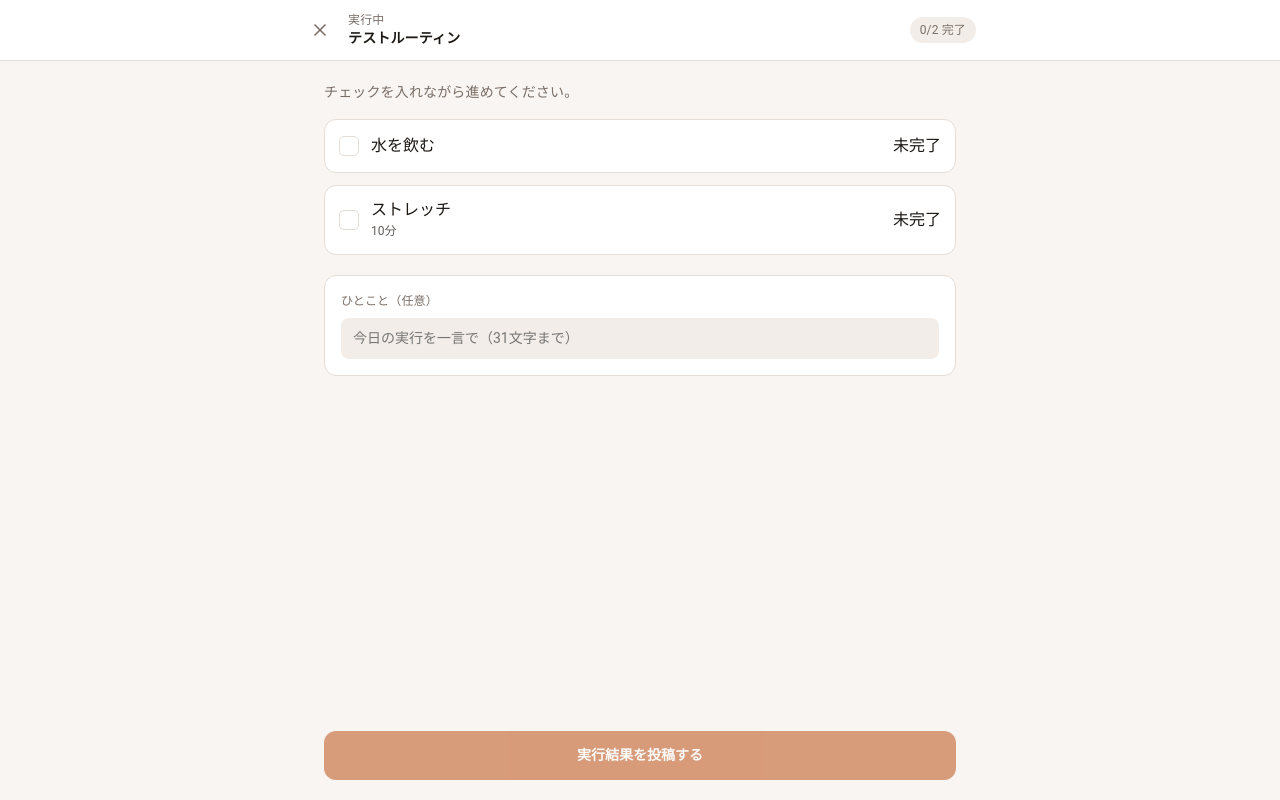
Test: RoutineExecutionPage › 実施済みActionが0件の間は投稿できず、1件選択すると投稿できる
The image size is (1280, 800).
expect the button "実行結果を投稿する" is disabled: met, box [324,731,956,780]
Click the button "水を飲む 未完了": (403, 146) [324,119,956,173]
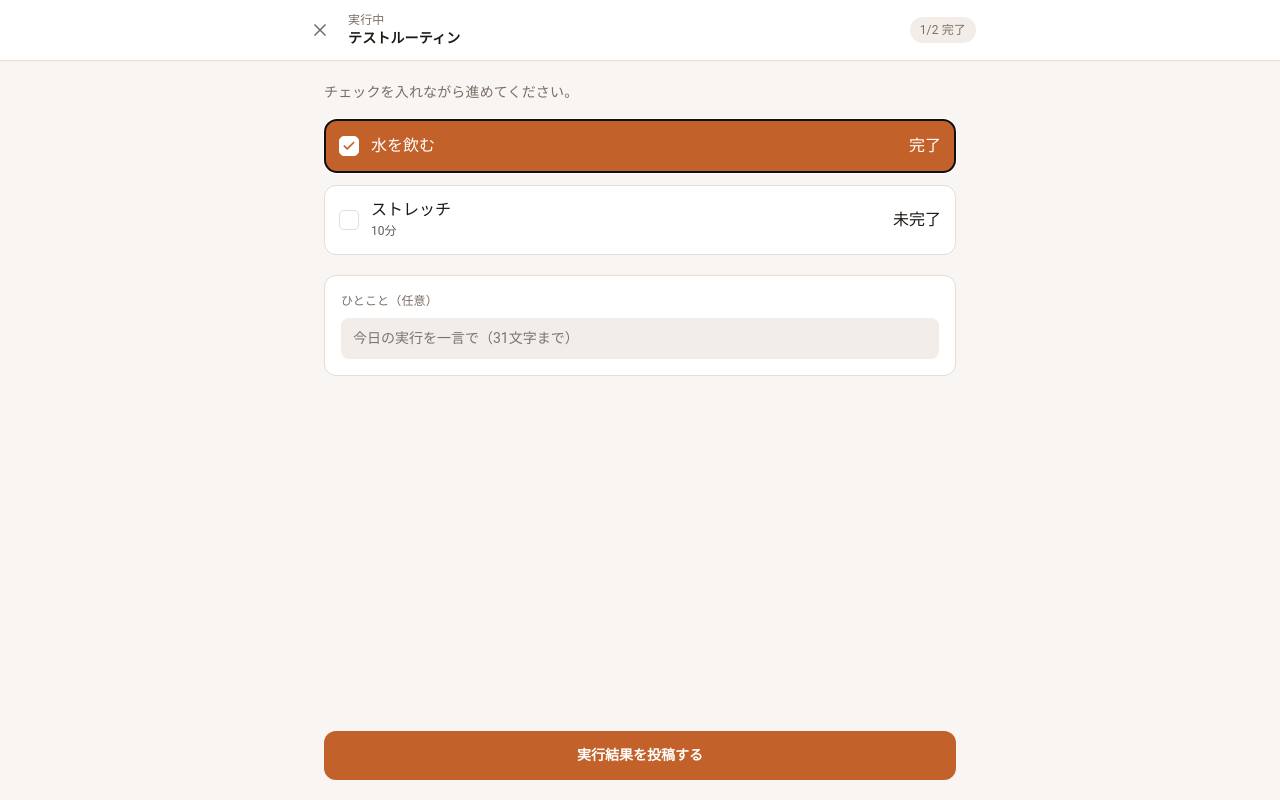
expect the button "実行結果を投稿する" is enabled: met, box [324,731,956,780]
